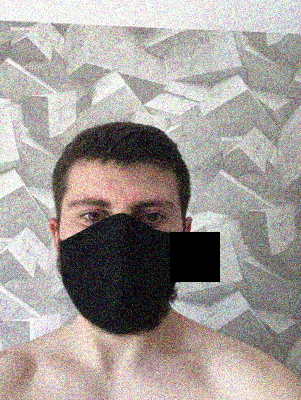with_mask: (59, 185, 183, 336)
